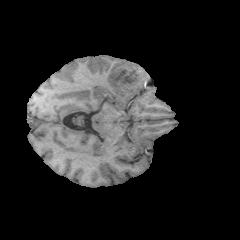glioma: (100, 58, 150, 106)
